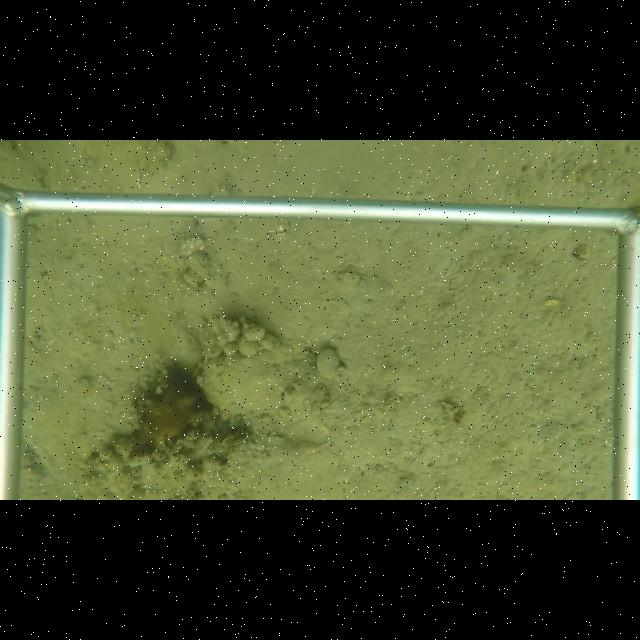Oyster-Closed: (315, 345, 342, 384)
